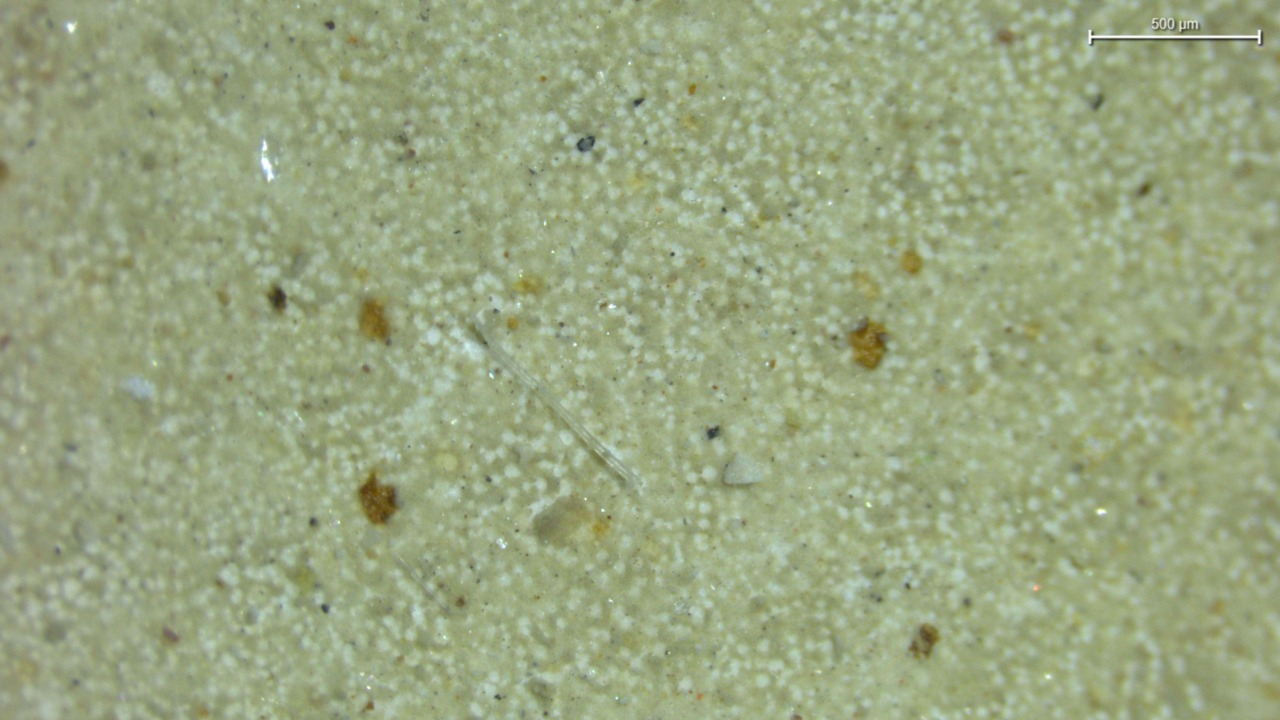microplastic_fragment: (724, 452, 766, 485)
